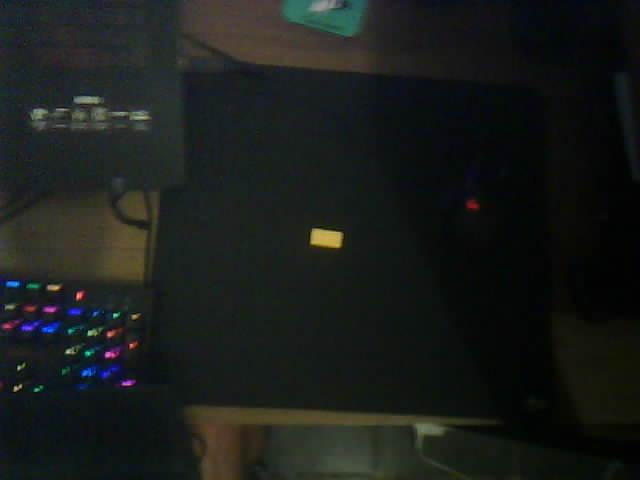lego: (309, 227, 344, 250)
